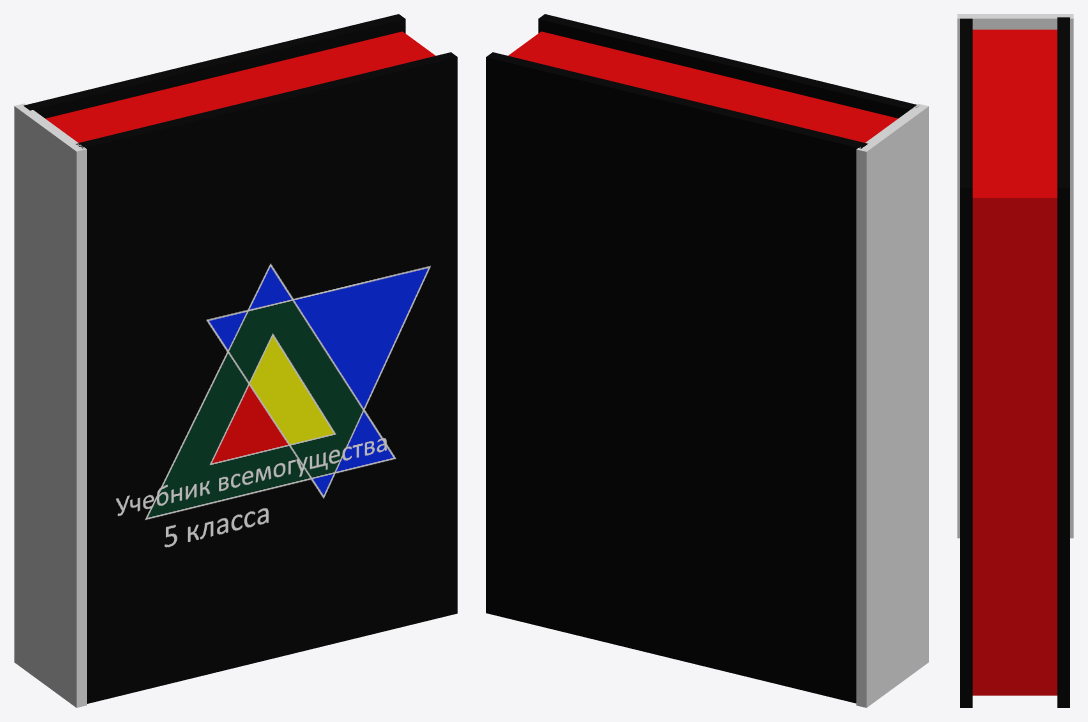
The picture shows the model from 3 angles, left to right: view 1: azimuth 30°, elevation 25°; view 2: azimuth 150°, elevation 25°; view 3: azimuth 270°, elevation 25°; orthographic projection. The views are drawn at different scales.
Parts seen in each view (by area): view 1: Plane, Cube.001, Cube.003, Cube, Cube.002; view 2: Cube.002, Cube.003, Cube, Cube.001; view 3: Cube, Cube.002, Cube.001, Cube.003.
Boxes of the visible parts, left/top/right/bottom form: Plane: left=107, top=170, right=433, bottom=592; Cube.001: left=76, top=52, right=457, bottom=703; Cube.003: left=14, top=103, right=86, bottom=707; Cube: left=45, top=31, right=435, bottom=142; Cube.002: left=23, top=14, right=405, bottom=118; Cube.002: left=486, top=52, right=867, bottom=703; Cube.003: left=856, top=104, right=928, bottom=707; Cube: left=508, top=31, right=897, bottom=142; Cube.001: left=538, top=14, right=918, bottom=118; Cube: left=972, top=29, right=1057, bottom=695; Cube.002: left=1057, top=17, right=1069, bottom=707; Cube.001: left=960, top=18, right=972, bottom=707; Cube.003: left=957, top=14, right=1073, bottom=538.
Bounding box in the file's own units: 111 × 154 × 31.26.
Materials: 3 (1 with a texture image).
